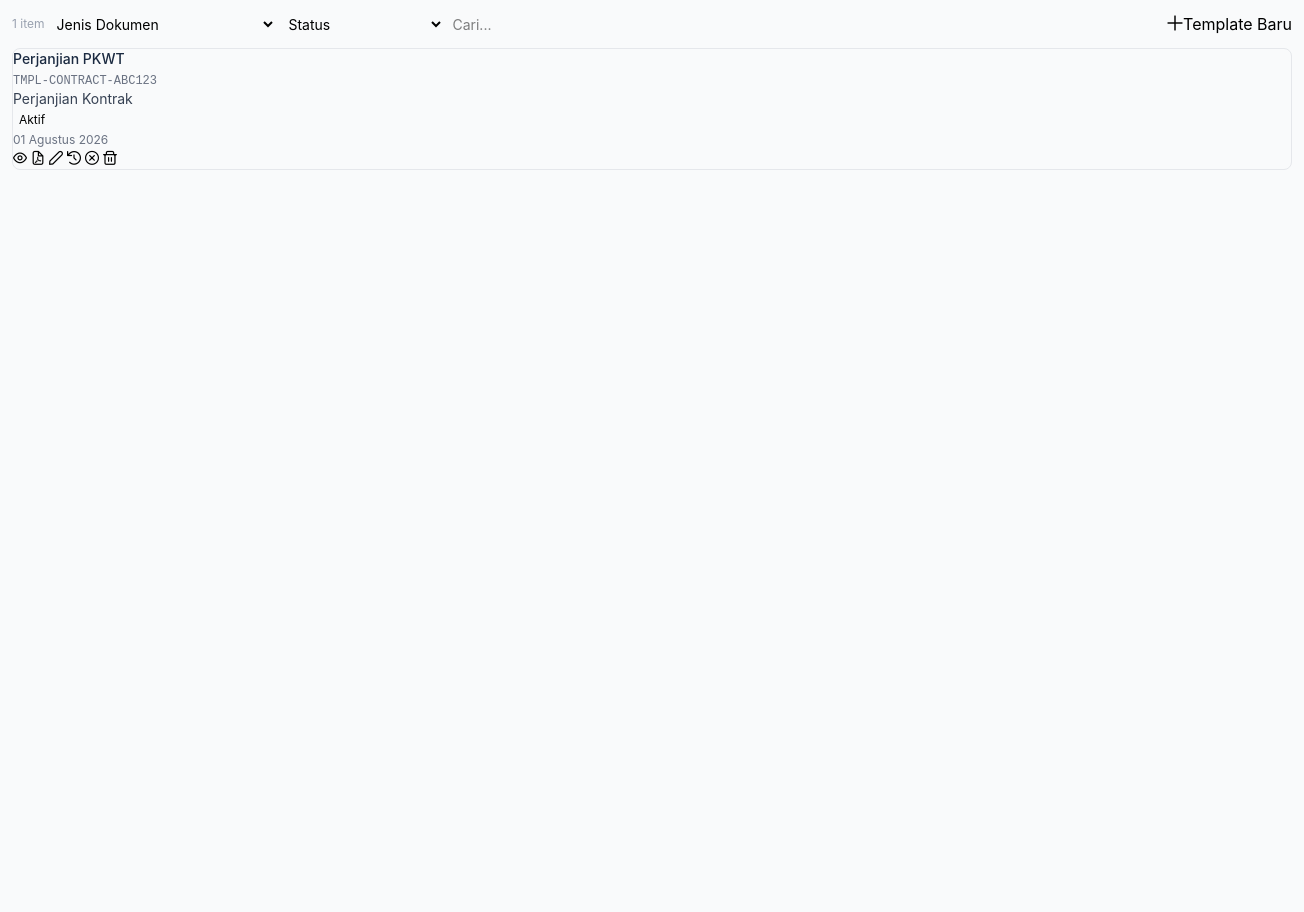
Test case: DocumentTemplatesView › preview menampilkan error bila gagal
Click the 3rd button.
click(38, 159)  # box [31,149,45,169]
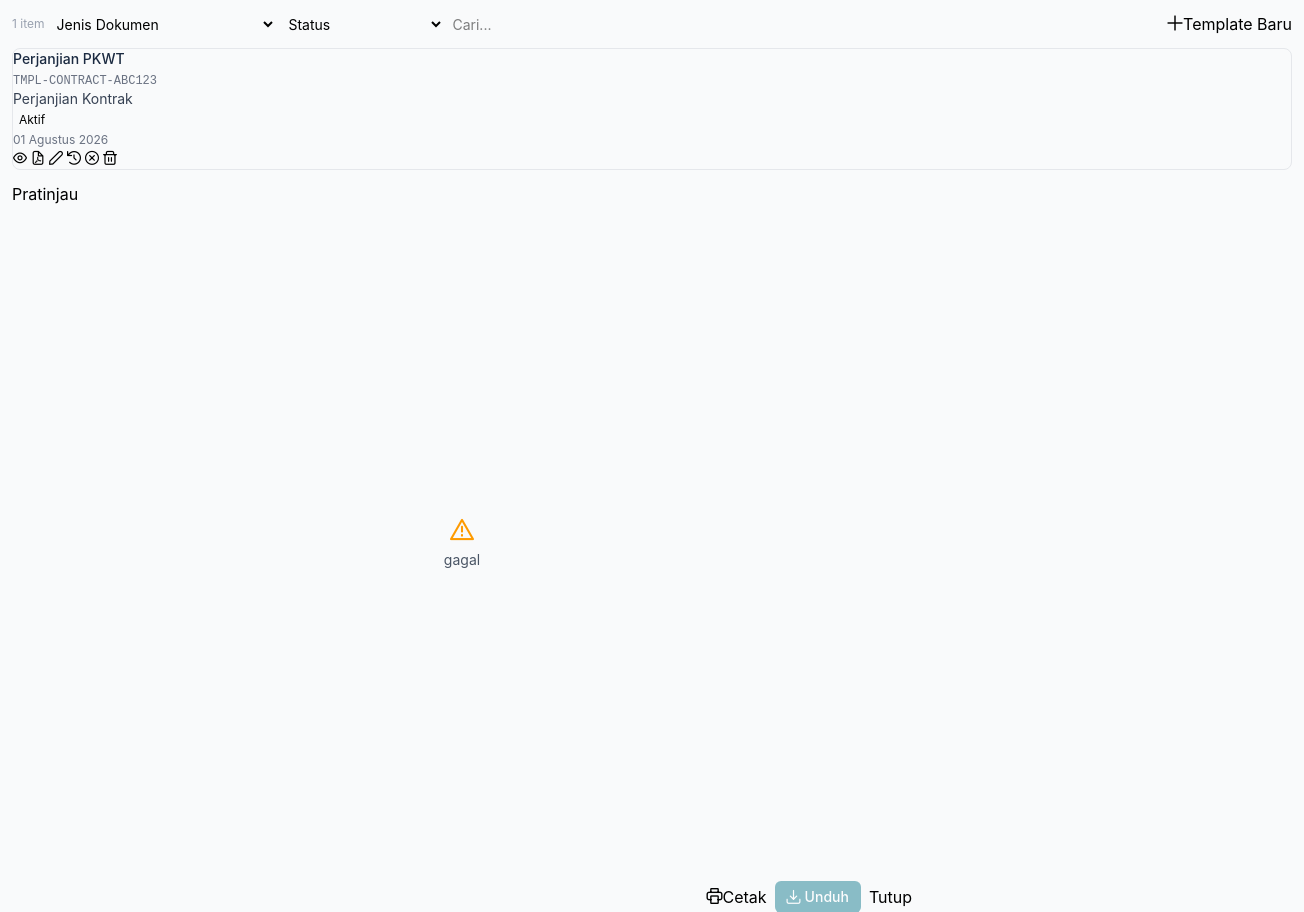
Result: the text "gagal" is shown at [444,550,480,570]
